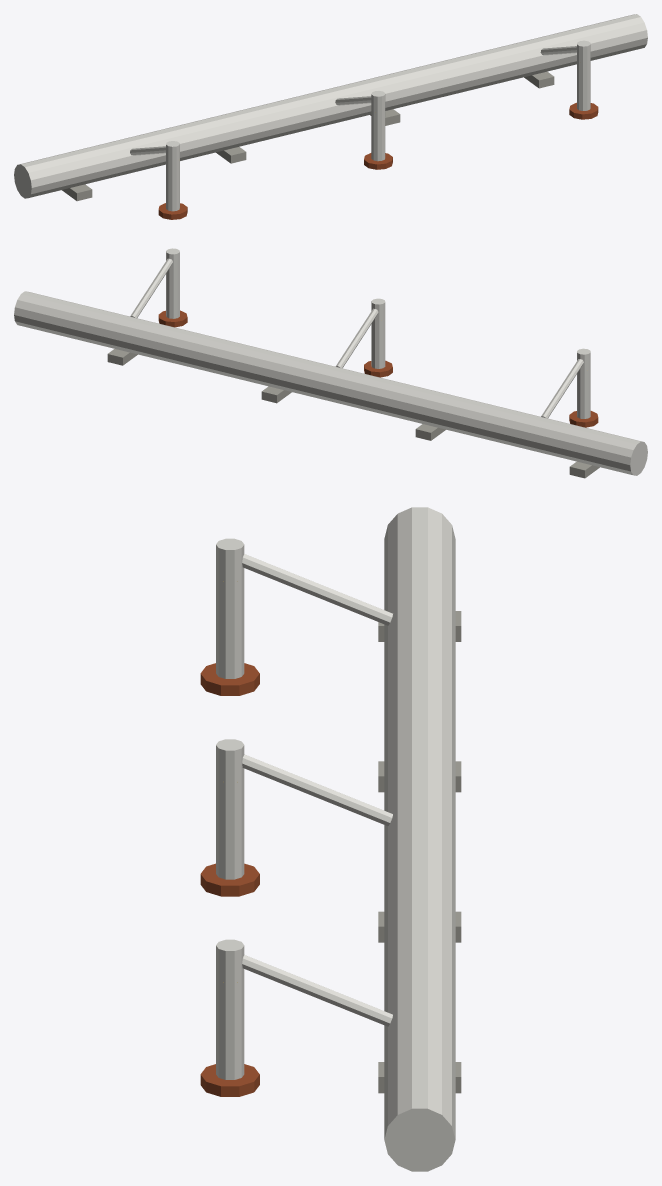
The model's file is landfill_wells.glb.
The picture shows the model from 3 angles, top to bottom: view 1: azimuth 30°, elevation 25°; view 2: azimuth 150°, elevation 25°; view 3: azimuth 270°, elevation 25°; orthographic projection. The views are drawn at different scales.
Visible parts, largest first — view 1: landfill_wells; view 2: landfill_wells; view 3: landfill_wells.
Part boxes in pixels (<box>): landfill_wells: <box>14,14,647,219</box>; landfill_wells: <box>14,248,647,478</box>; landfill_wells: <box>200,507,461,1171</box>.
Bounding box in the file's own units: 12 × 1.3 × 2.2.
